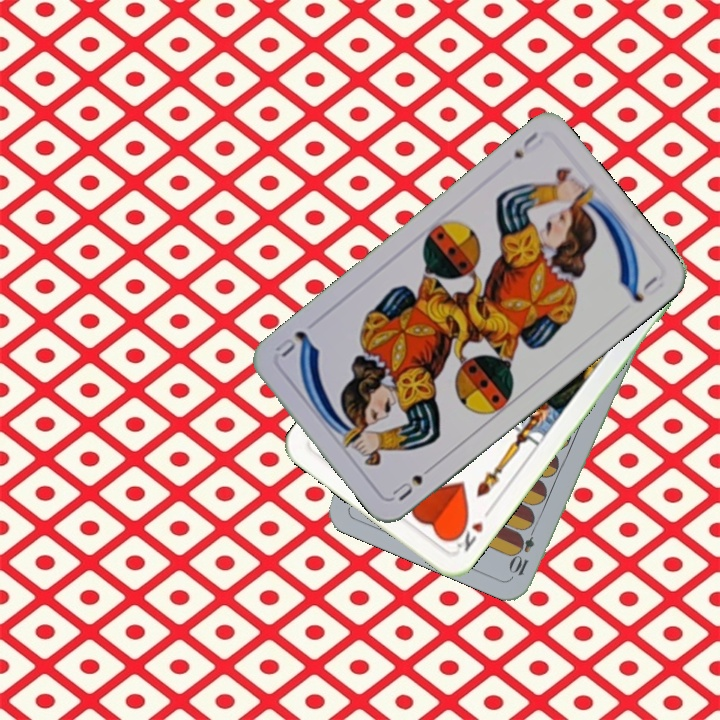E10: (507, 520, 539, 578)
HK: (447, 504, 495, 555)
SU: (388, 459, 438, 504), (509, 127, 546, 162)
